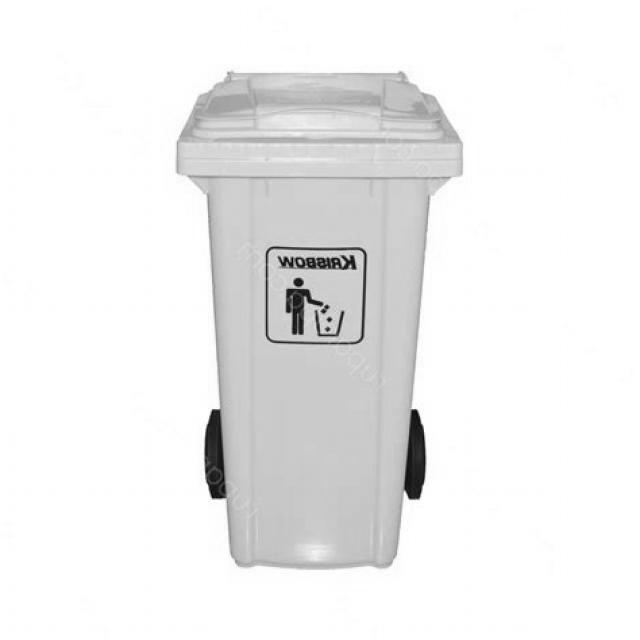garbage container: (152, 61, 486, 588)
